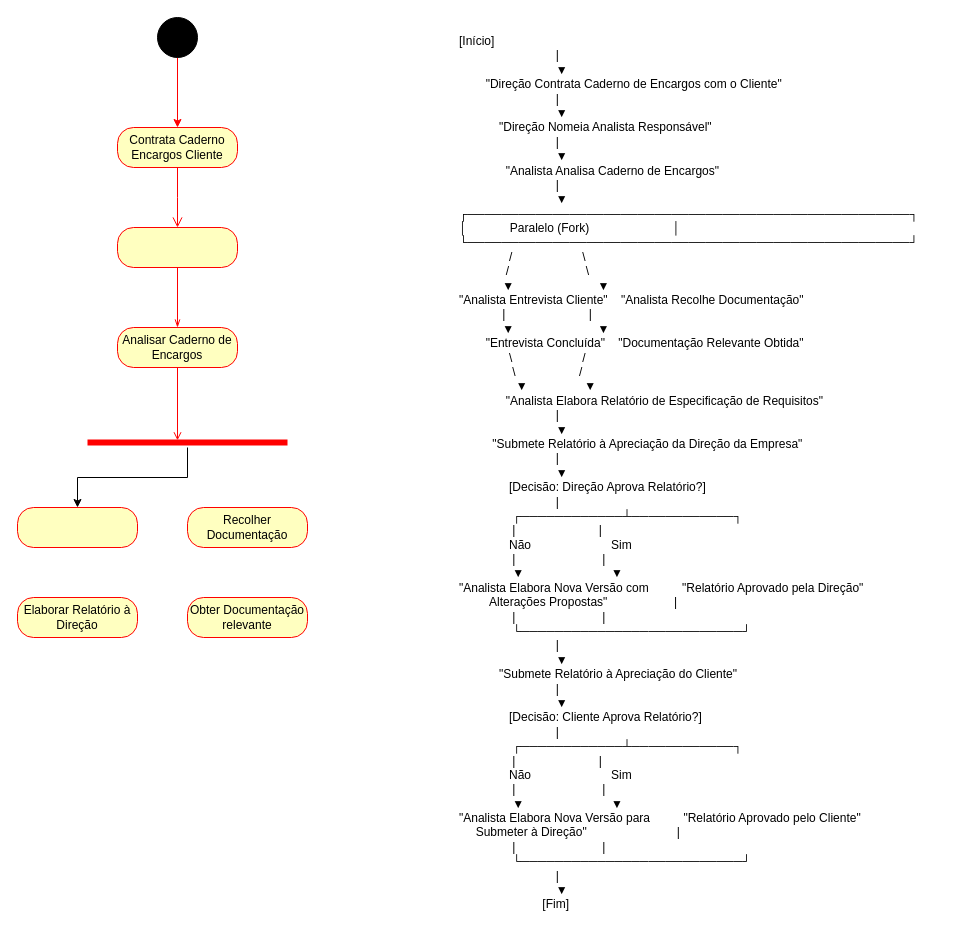
This 965x945 diagram has some shape labels left out. The shapes that lost their labels are listed below. From the top down, each one's box as (x1, y1, x2, y2) in pixels, then its label:
(116, 226, 238, 268): Nomear Analista Responsável
(16, 506, 138, 548): Entrevistar Cliente
